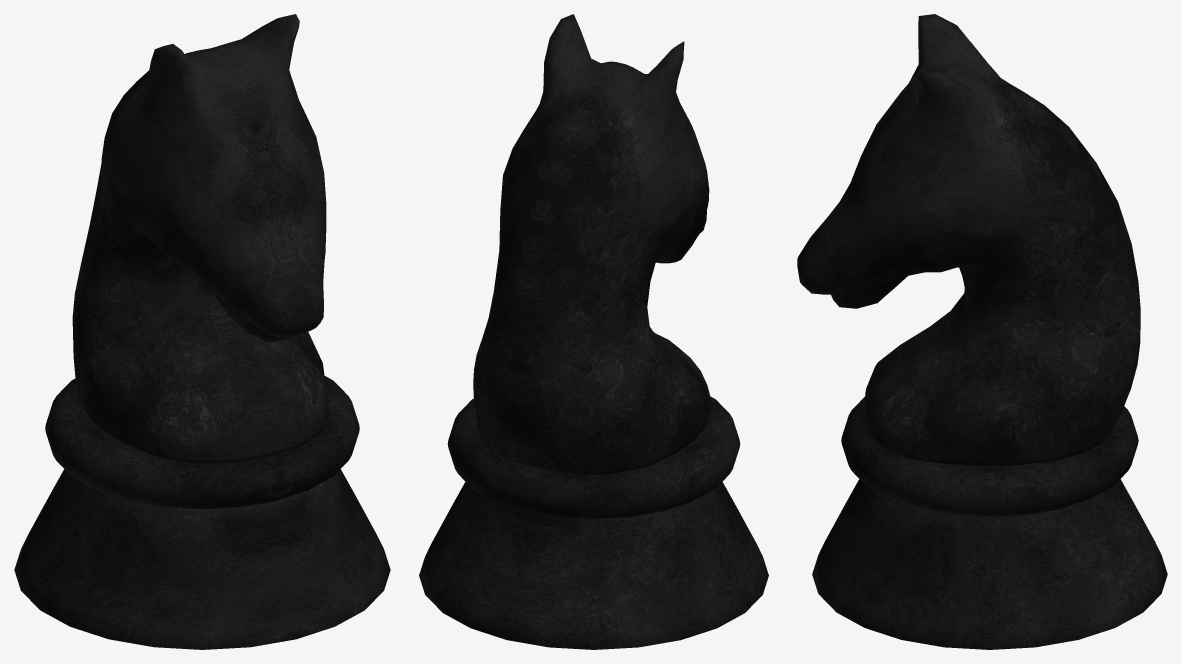
File: knight_black.obj
The picture shows the model from 3 angles, left to right: view 1: azimuth 30°, elevation 25°; view 2: azimuth 150°, elevation 25°; view 3: azimuth 270°, elevation 25°; orthographic projection. The views are drawn at different scales.
Parts seen in each view (by area): view 1: knight_Cube; view 2: knight_Cube; view 3: knight_Cube.
Part boxes in pixels (x1,y1,x2,y2): knight_Cube: (14,14,390,649); knight_Cube: (419,14,768,649); knight_Cube: (797,14,1167,649).
Bounding box in the file's own units: 0.9172 × 1.51 × 0.9556.
Materials: 1 (1 with a texture image).
